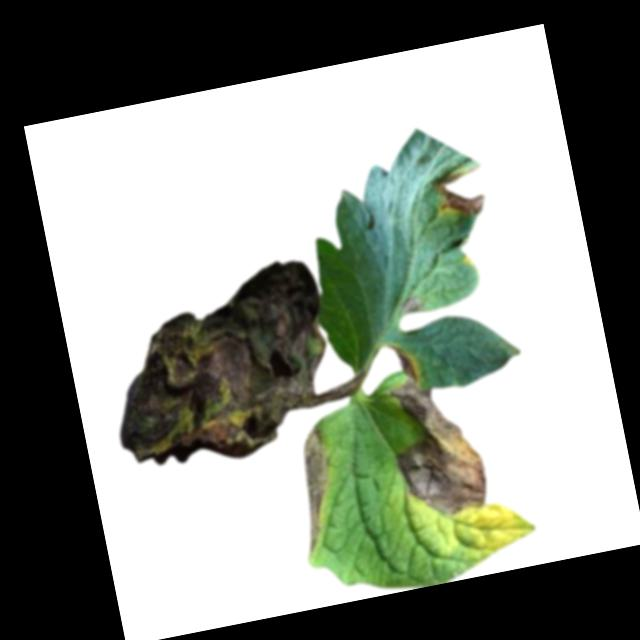Early_blight: (93, 254, 346, 480), (384, 372, 493, 525), (286, 426, 346, 553), (429, 163, 489, 222), (383, 340, 419, 386), (398, 295, 423, 316)
